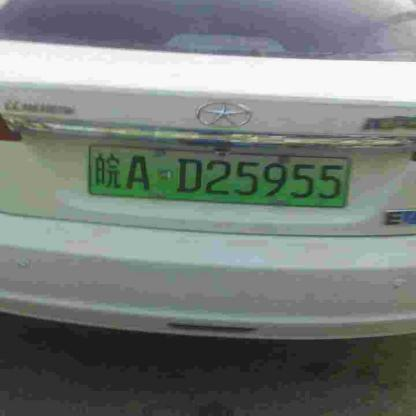lp: (88, 144, 349, 208)
